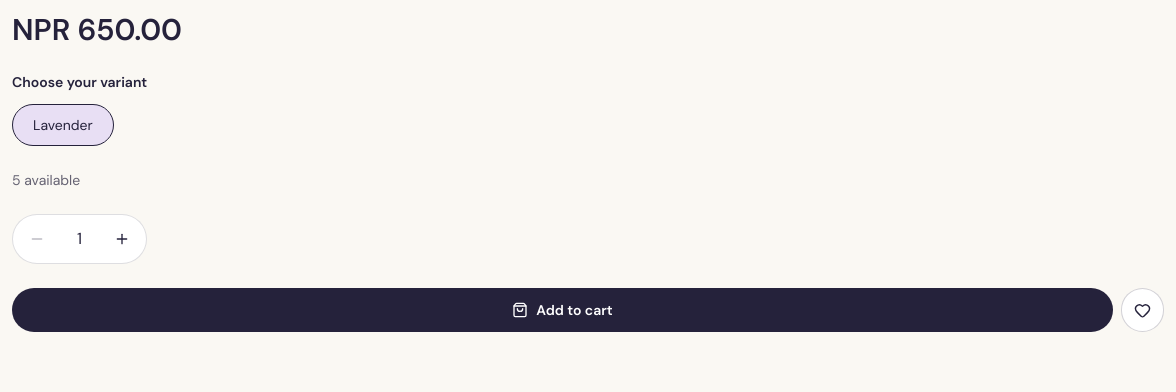
it: adds the selected variant and quantity to the real cart API
Click the button named "Increase quantity" at (122, 239), box [102, 219, 142, 259]
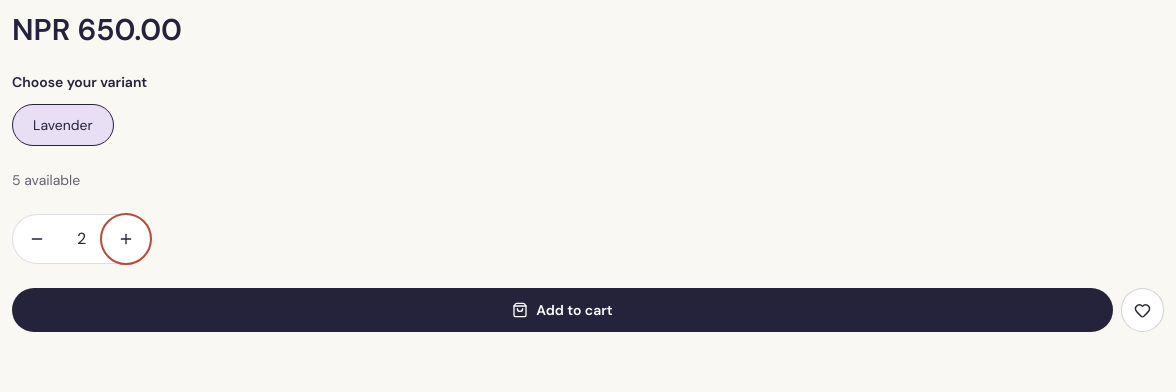
Click the button "Add to cart" at (562, 310), box [12, 288, 1113, 332]
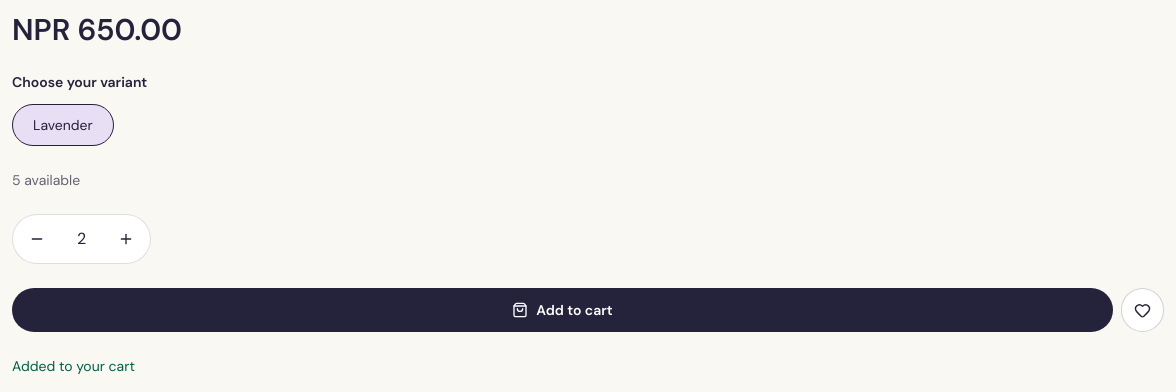
Check: the message reads "Added to your cart", box [12, 357, 135, 375]
